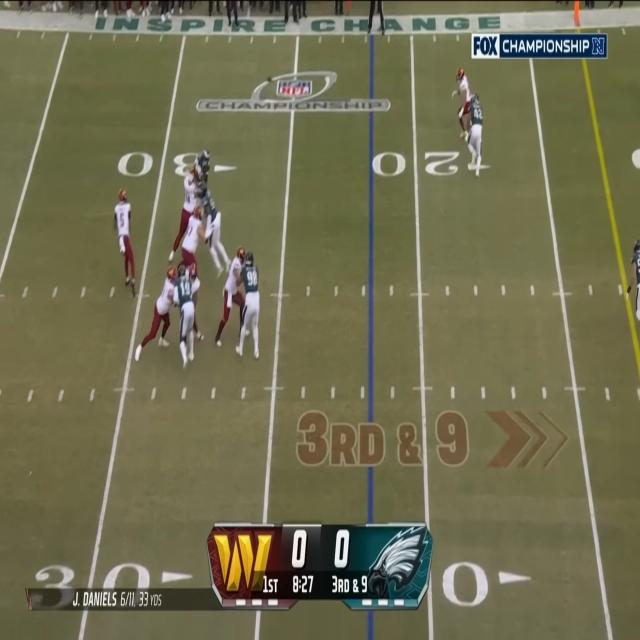Ball: (266, 74, 274, 86)
